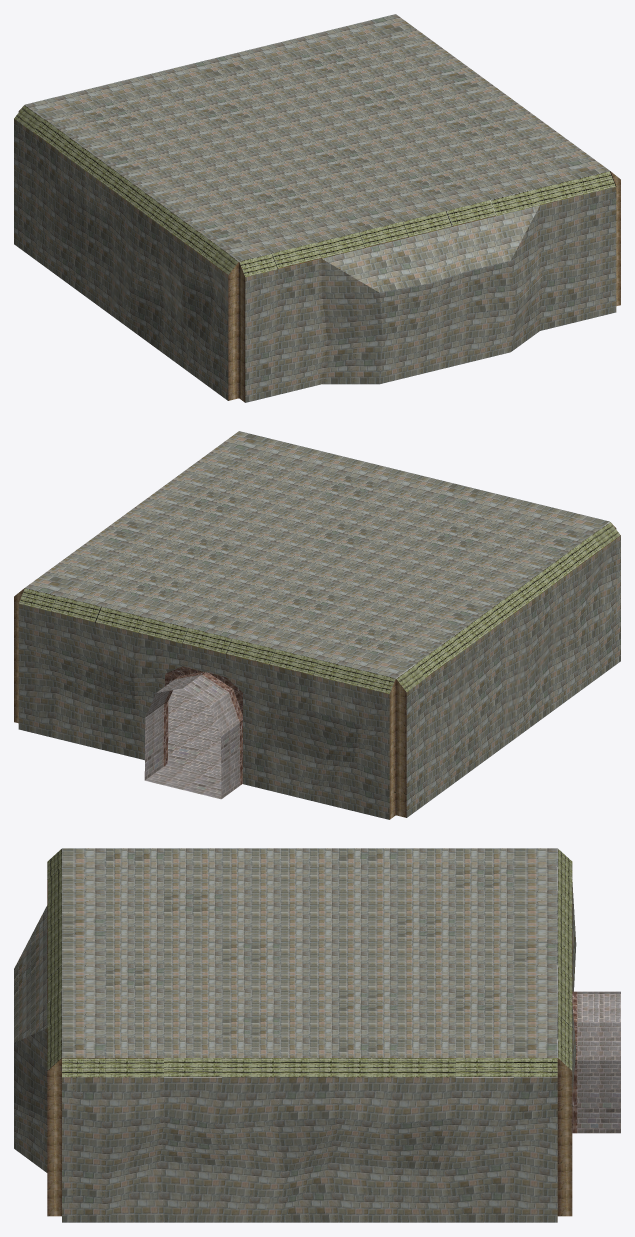
File: map50MS.fbx
3 views of the same model, one above another, from view 1: azimuth 30°, elevation 25°; view 2: azimuth 150°, elevation 25°; view 3: azimuth 270°, elevation 25° (orthographic). The views are drawn at different scales.
Visible parts, largest first — view 1: map50MS_Layer1_roof, map50MS_Layer1_left, map50MS_Layer1_far, map50MS_Layer2, map50MS_Layer6; view 2: map50MS_Layer1_roof, map50MS_Layer1_right, map50MS_Layer1_far, map50MS_Layer2, map50MS_Layer3, map50MS_Layer1_floor, map50MS_Layer6, map50MS_Layer5; view 3: map50MS_Layer1_roof, map50MS_Layer1_near, map50MS_Layer2, map50MS_Layer1_left, map50MS_Layer3, map50MS_Layer6, map50MS_Layer5, map50MS_Layer1_right.
Boxes of the visible parts, x1,y1,x2,y2 form: map50MS_Layer1_roof: [25, 14, 609, 261]; map50MS_Layer1_left: [245, 187, 616, 402]; map50MS_Layer1_far: [14, 119, 228, 400]; map50MS_Layer2: [14, 105, 616, 277]; map50MS_Layer6: [18, 106, 620, 402]; map50MS_Layer1_roof: [25, 431, 609, 678]; map50MS_Layer1_right: [18, 604, 389, 819]; map50MS_Layer1_far: [406, 536, 620, 817]; map50MS_Layer2: [18, 522, 620, 694]; map50MS_Layer3: [144, 674, 240, 799]; map50MS_Layer1_floor: [166, 688, 221, 778]; map50MS_Layer6: [14, 523, 616, 819]; map50MS_Layer5: [163, 666, 242, 785]; map50MS_Layer1_roof: [62, 848, 557, 1057]; map50MS_Layer1_near: [62, 1077, 557, 1222]; map50MS_Layer2: [47, 848, 572, 1077]; map50MS_Layer1_left: [14, 905, 47, 1172]; map50MS_Layer3: [577, 991, 620, 1133]; map50MS_Layer6: [47, 1058, 572, 1216]; map50MS_Layer5: [572, 991, 577, 1133]; map50MS_Layer1_right: [572, 882, 576, 1092].
Bounding box in the file's own units: 0.85 × 0.2812 × 0.9756.
